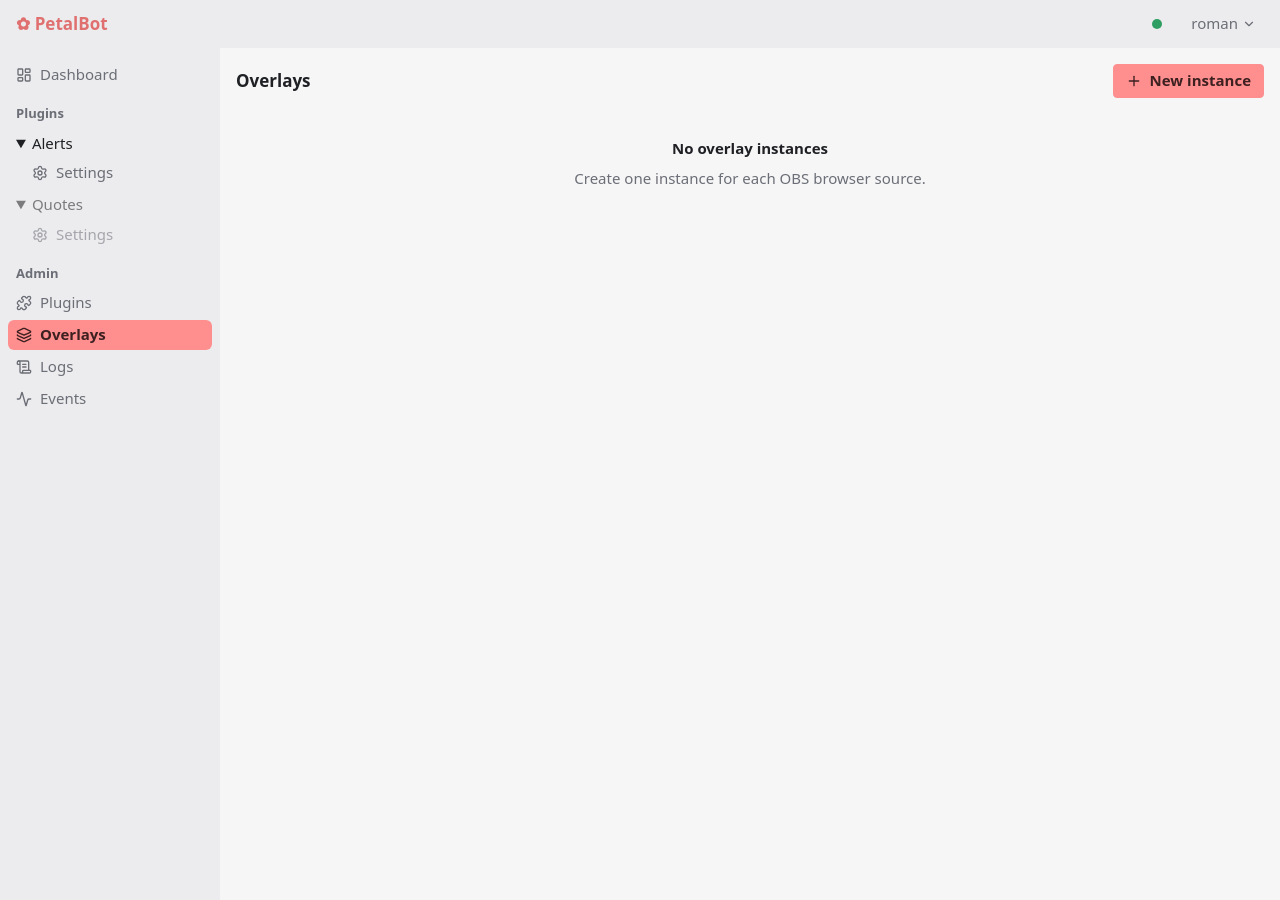
Test: Admin > Overlays › checks the name and shows validation errors in the create dialog
Click the button "New instance": (1188, 81) 1113,64 -> 1264,98
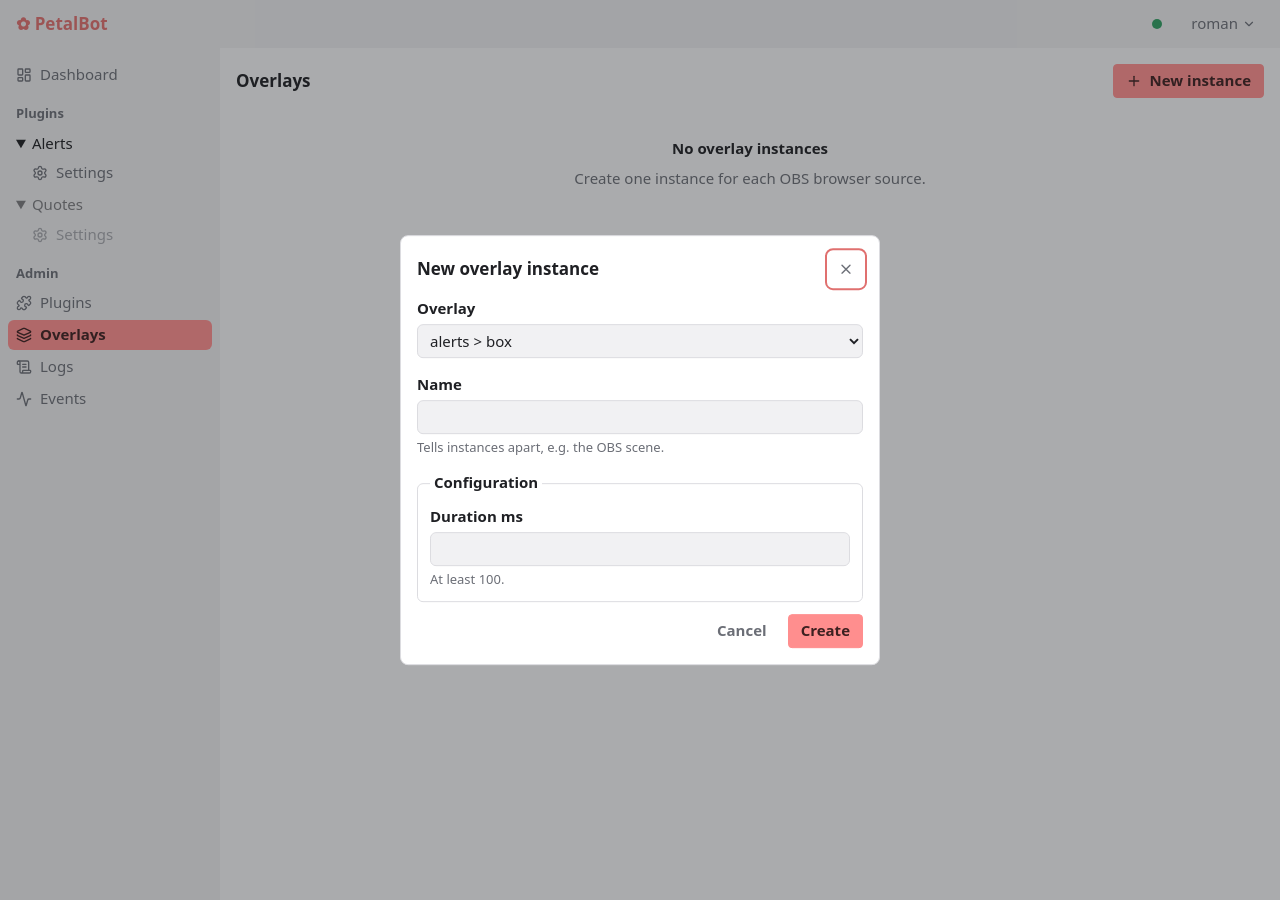
Click the button "Create": (825, 631) 788,614 -> 863,648
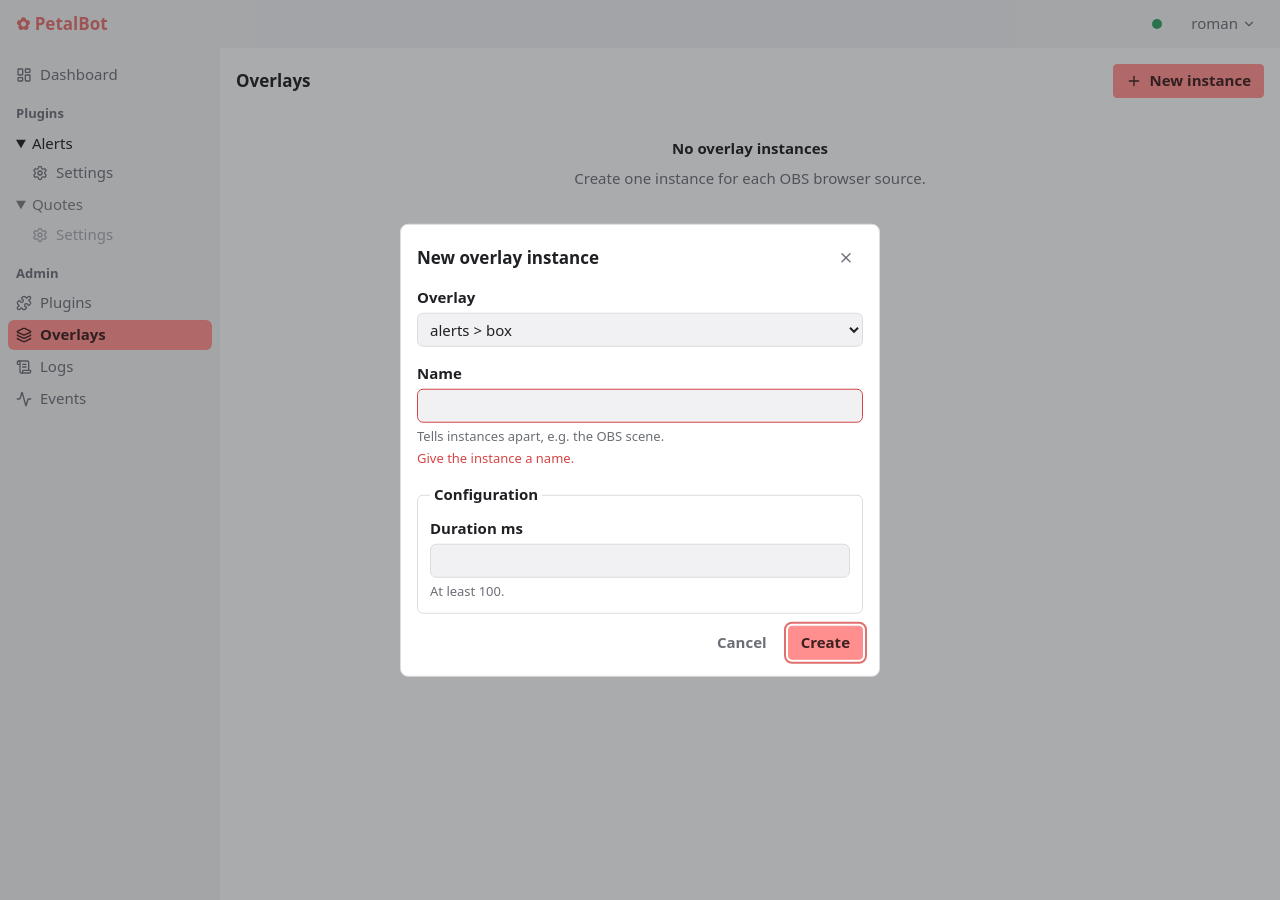
Check: the text "Give the instance a name." is shown, box 417,449 -> 574,467
In the field labelled "Name": (640, 405) 417,388 -> 863,422, type "Main"
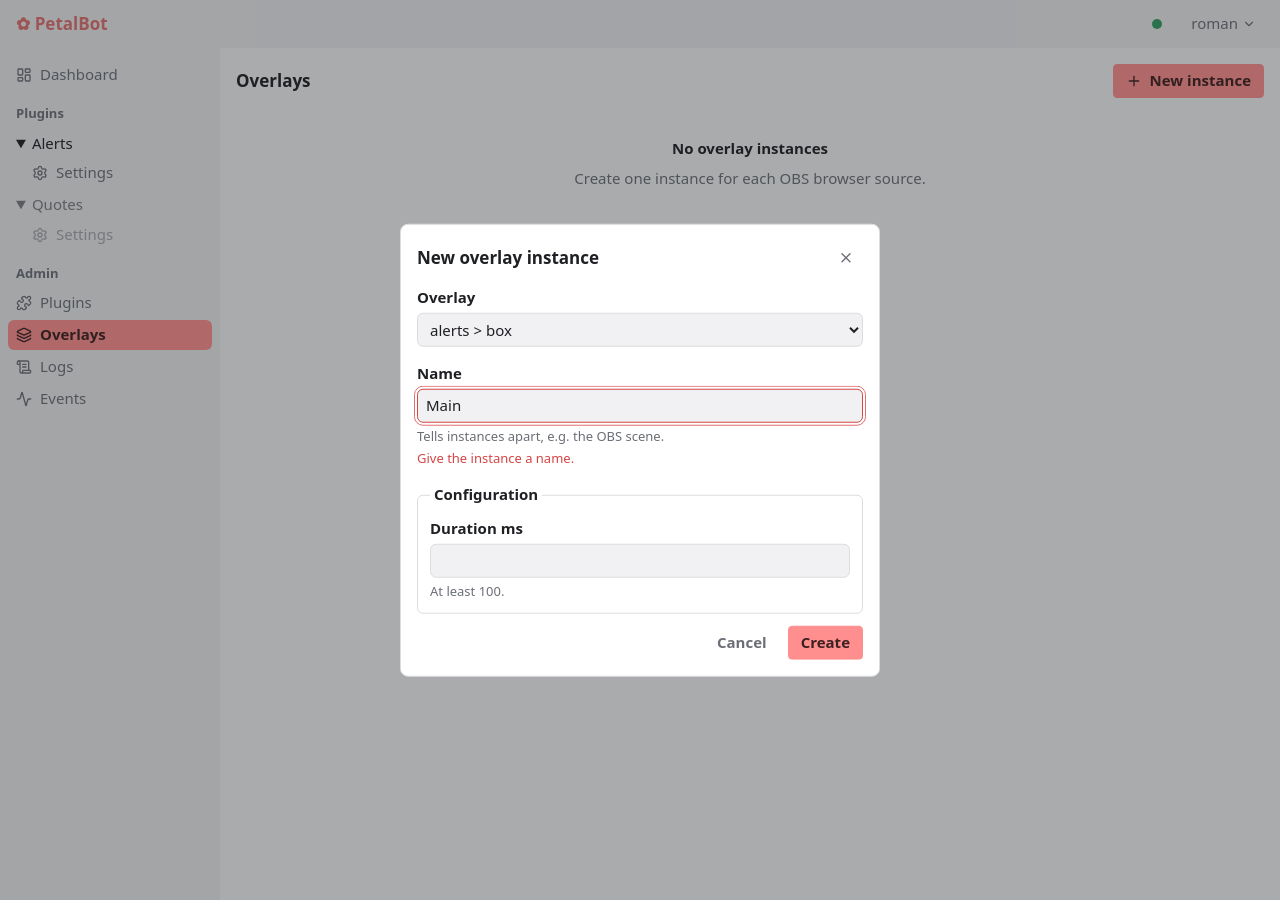
In the number field labelled "Duration ms": (640, 560) 430,543 -> 850,577, type "5"
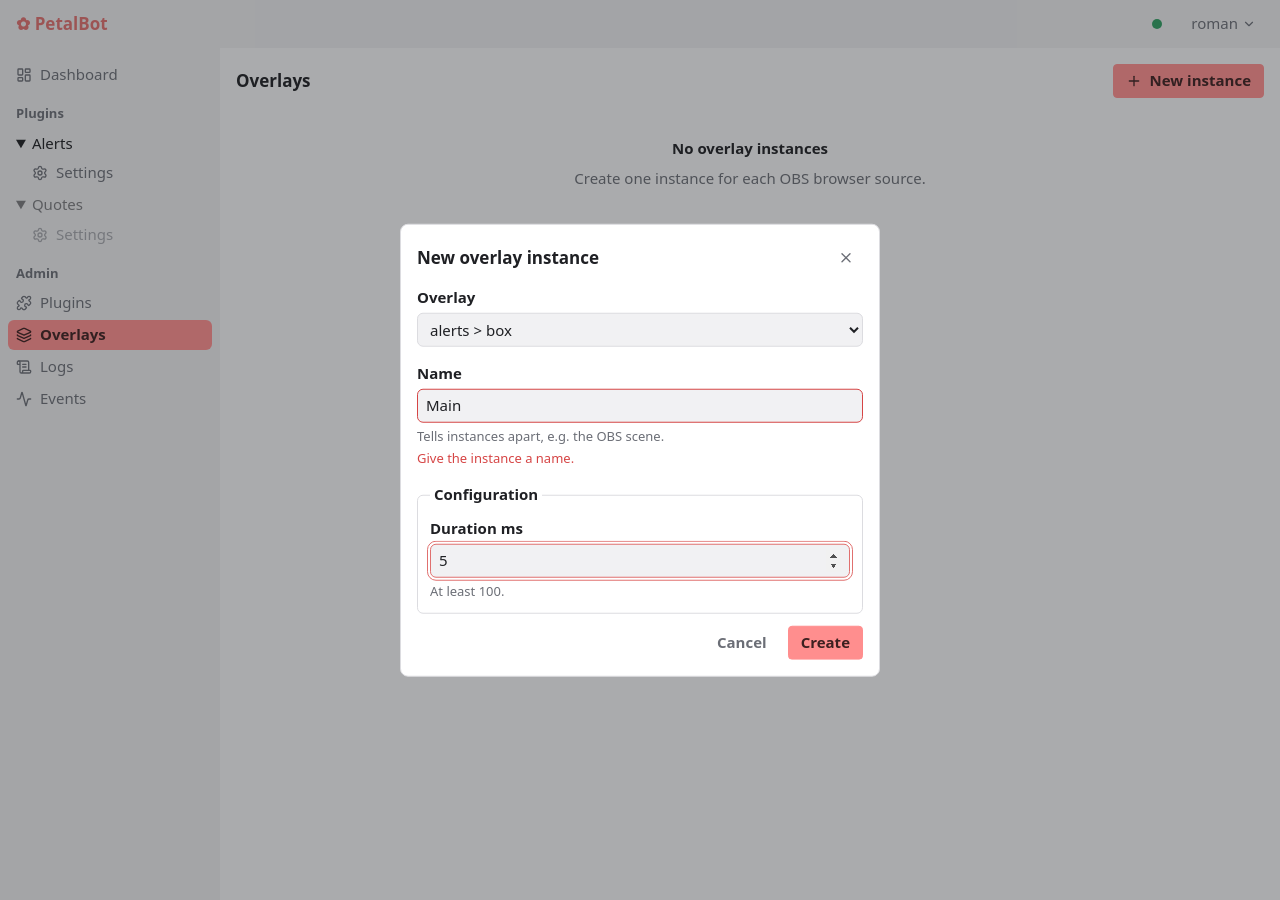
Click the button "Create": (825, 642) 788,625 -> 863,659
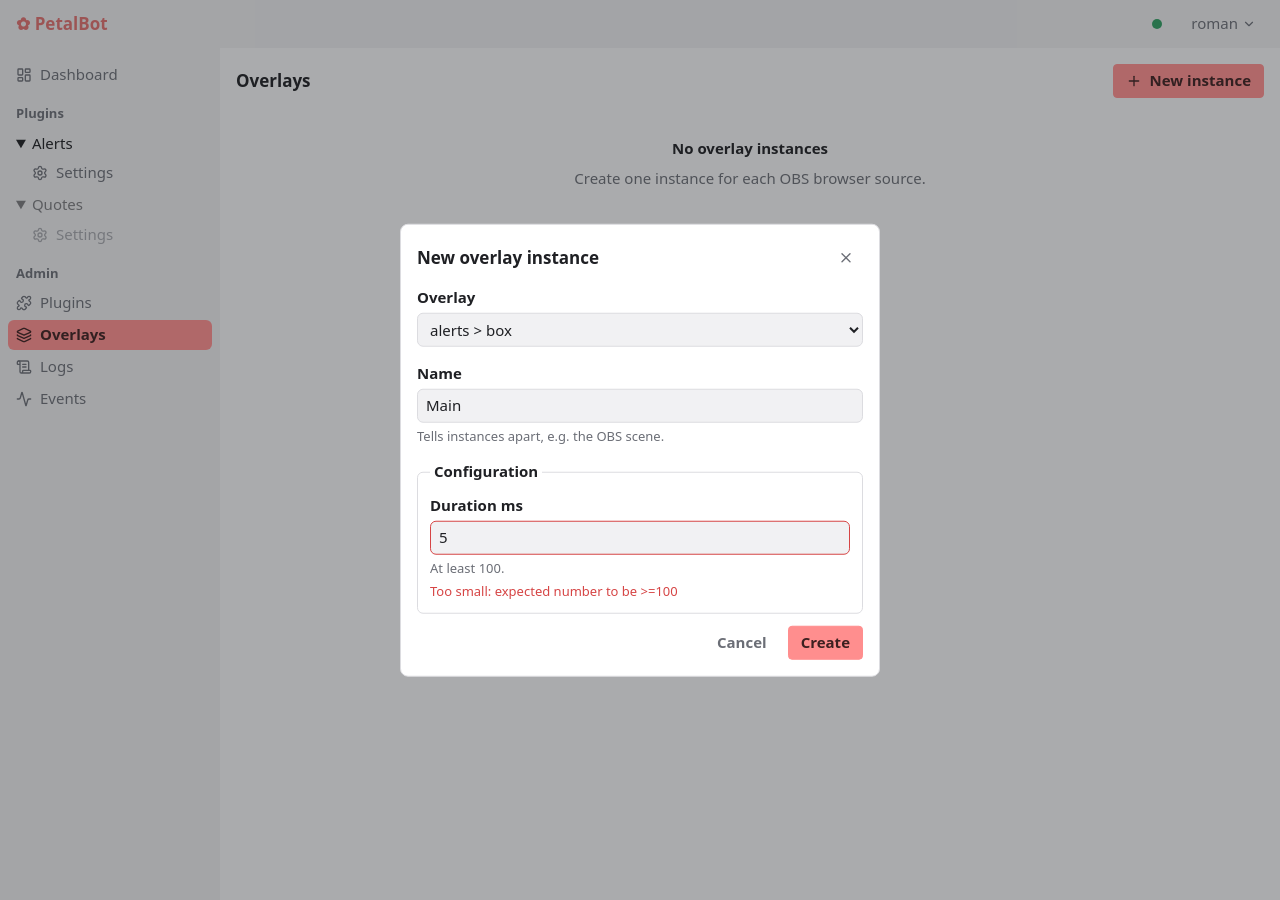
Check: the text "Too small: expected number to be >=100" is shown, box 430,581 -> 678,599
